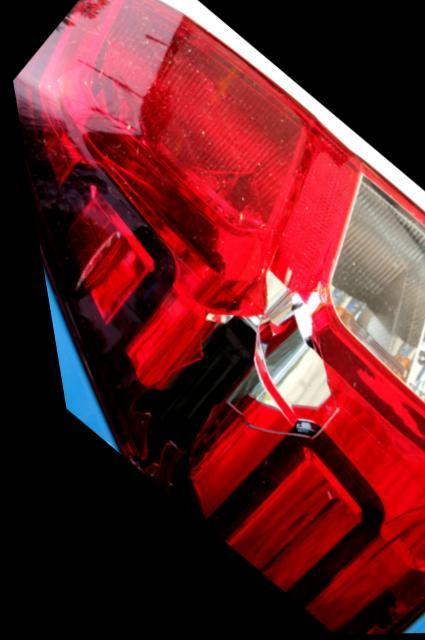lamp broken: (10, 0, 425, 636)
